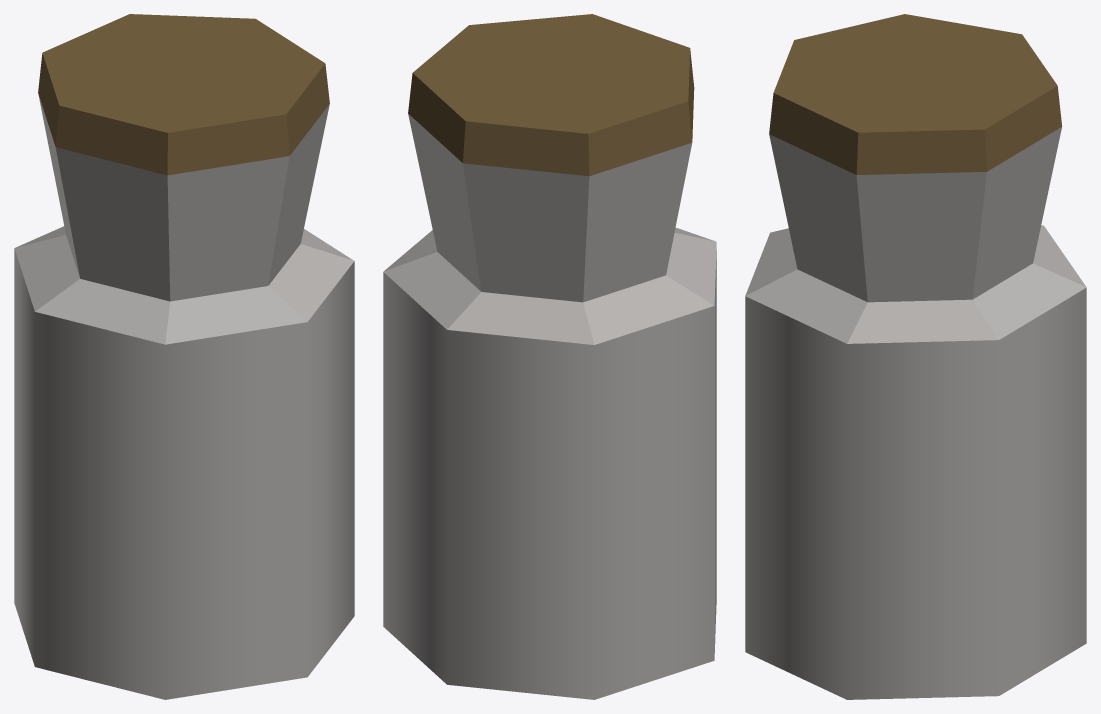
File: RG-Dungeon_Small-Flask.fbx
3 renders of one model, left to right at view 1: azimuth 30°, elevation 25°; view 2: azimuth 150°, elevation 25°; view 3: azimuth 270°, elevation 25°, orthographic.
Parts seen in each view (by area): view 1: RG-Dungeon_Small-Flask; view 2: RG-Dungeon_Small-Flask; view 3: RG-Dungeon_Small-Flask.
Boxes of the visible parts, box(x1,y1,x2,y2) form: RG-Dungeon_Small-Flask: box(14, 14, 354, 699); RG-Dungeon_Small-Flask: box(383, 14, 716, 699); RG-Dungeon_Small-Flask: box(745, 14, 1086, 699).
Size of the model in its own units: 0.51 by 0.9264 by 0.516.
